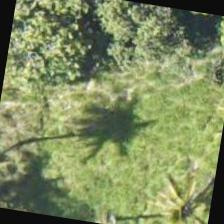Kelapa_Sawit: (136, 164, 215, 223)
